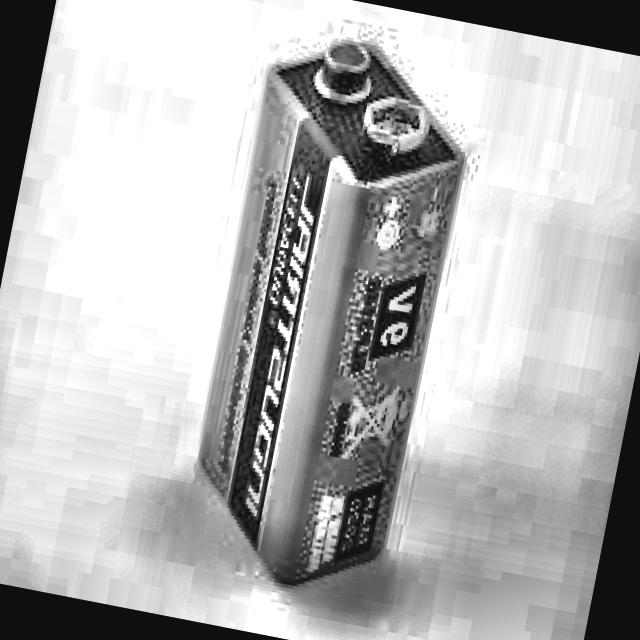Battery: (175, 28, 480, 606)
